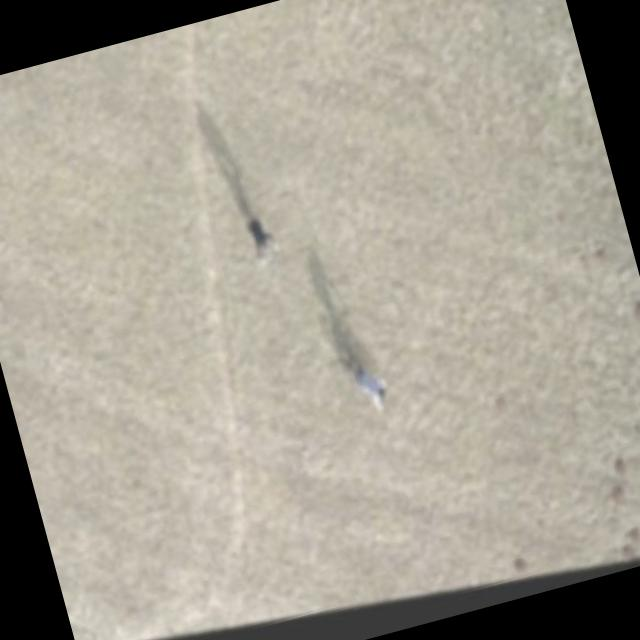Person: (238, 210, 288, 280), (346, 360, 394, 427)
